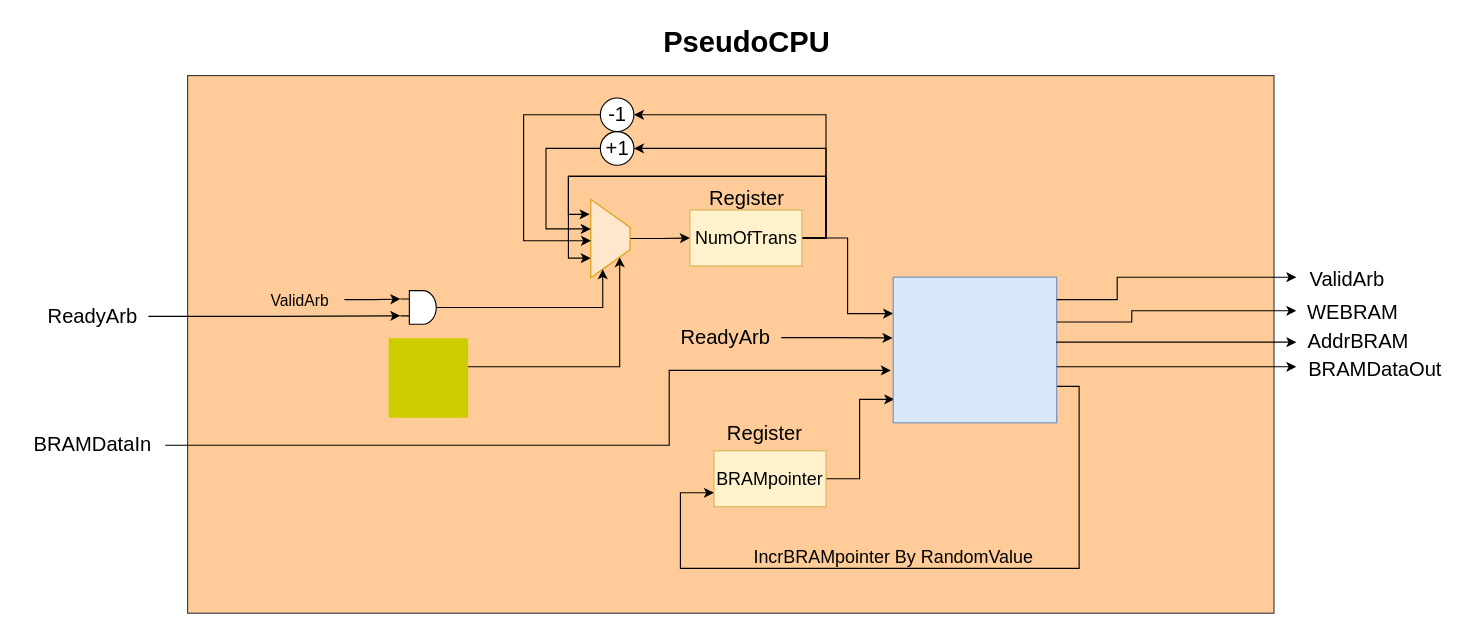
Some shapes in this 1472 by 633 pixel diagram are drawn without their labels. Each missing label, with the centre of its shape:
"FSM" belongs at point (974, 349).
"Transaction Timer" belongs at point (428, 377).
